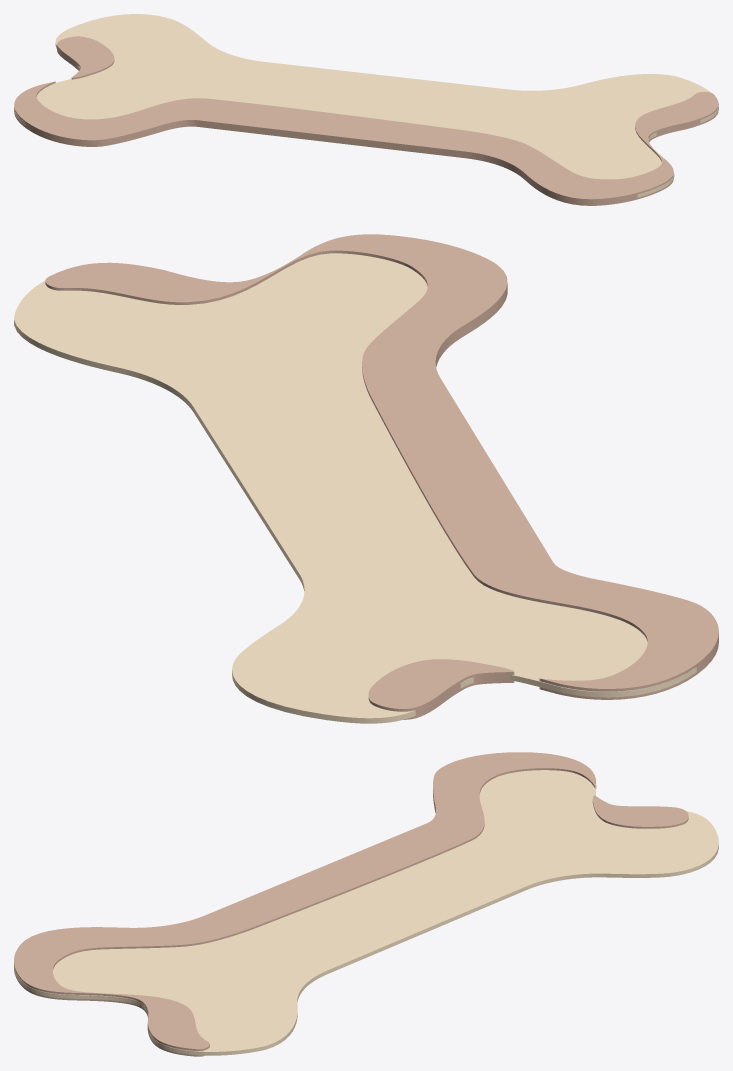
Rendered from emoji_u1f9b4.glb.
3 renders of one model, top to bottom at view 1: azimuth 30°, elevation 25°; view 2: azimuth 150°, elevation 25°; view 3: azimuth 270°, elevation 25°, orthographic. The views are drawn at different scales.
Parts seen in each view (by area): view 1: emoji_u1f9b4; view 2: emoji_u1f9b4; view 3: emoji_u1f9b4.
Boxes of the visible parts, bbox=[...] form: emoji_u1f9b4: bbox=[14, 14, 718, 205]; emoji_u1f9b4: bbox=[14, 234, 718, 723]; emoji_u1f9b4: bbox=[14, 752, 718, 1056].
Bounding box in the file's own units: 0.034 × 0.0004 × 0.034.
